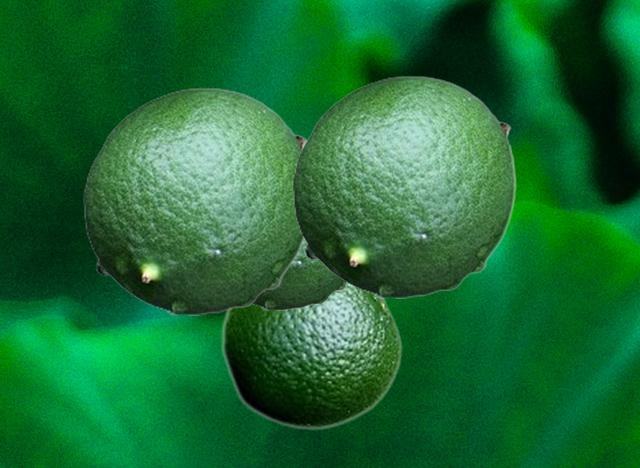calamansi: (83, 87, 306, 314), (292, 75, 515, 297), (220, 285, 402, 430), (251, 244, 349, 309)
